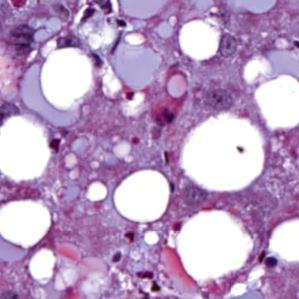steatosis: (113, 167, 173, 224)
